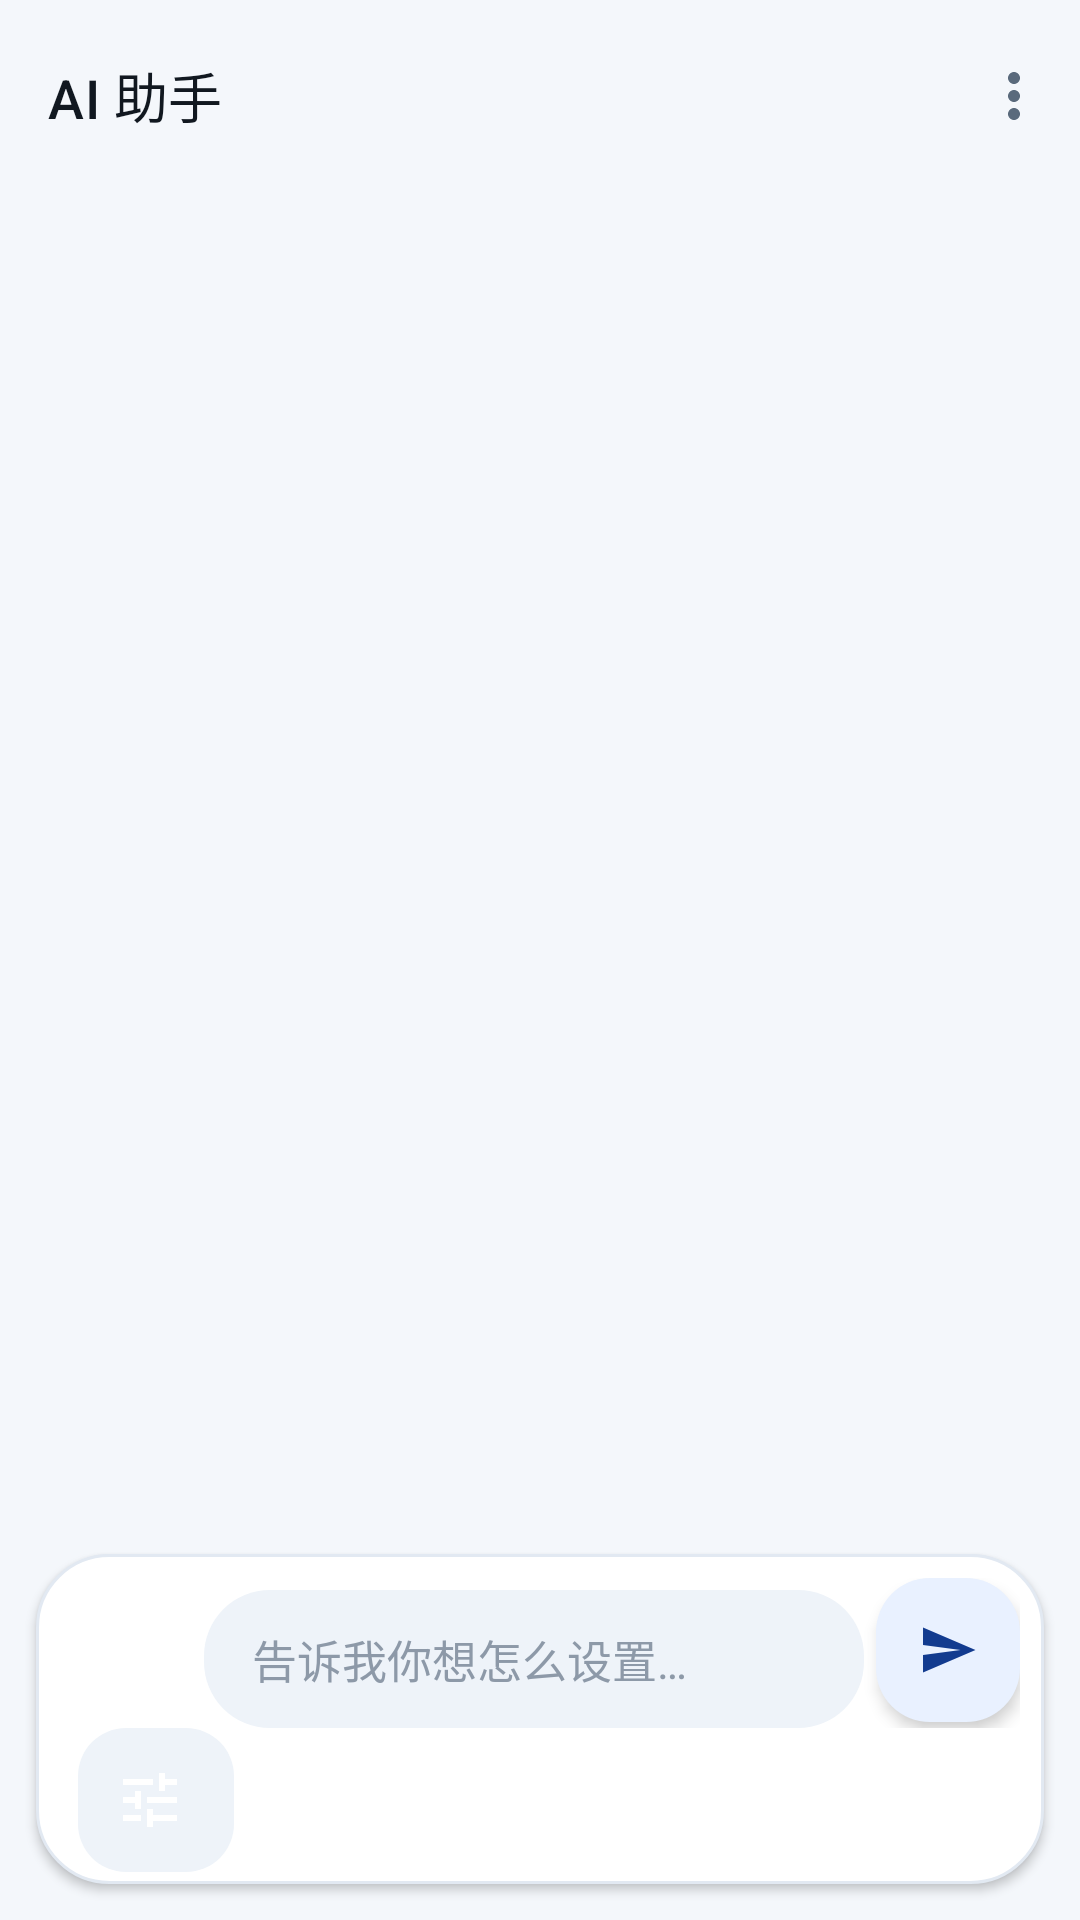

Icons on this 1080x1920 Android screen, each with its box as (left=x1, top=y1, right=x2, bottom=y2):
发送: (left=876, top=1578, right=1020, bottom=1722)
